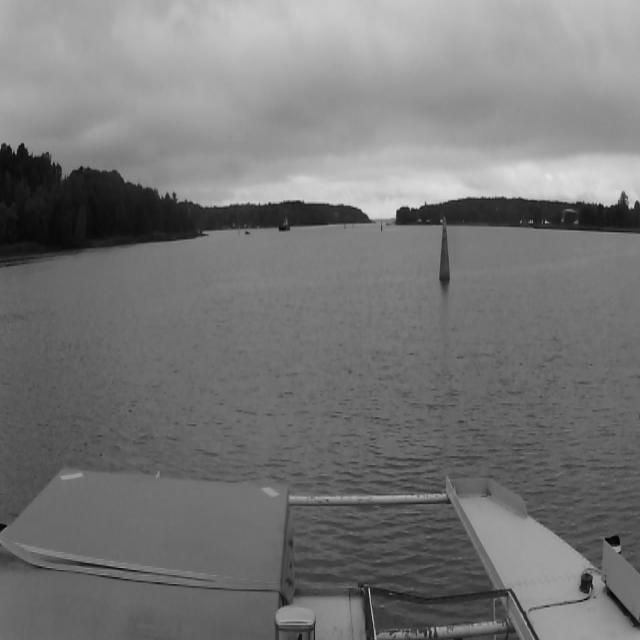buoy: (442, 218, 452, 282)
ship: (279, 220, 291, 230), (245, 230, 250, 235)
